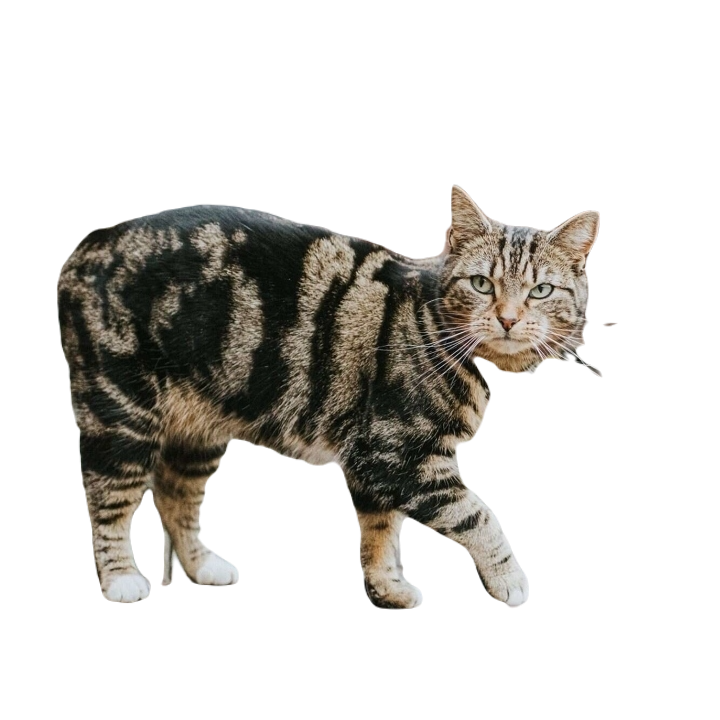Cat: (52, 185, 650, 613), (327, 187, 366, 226)
